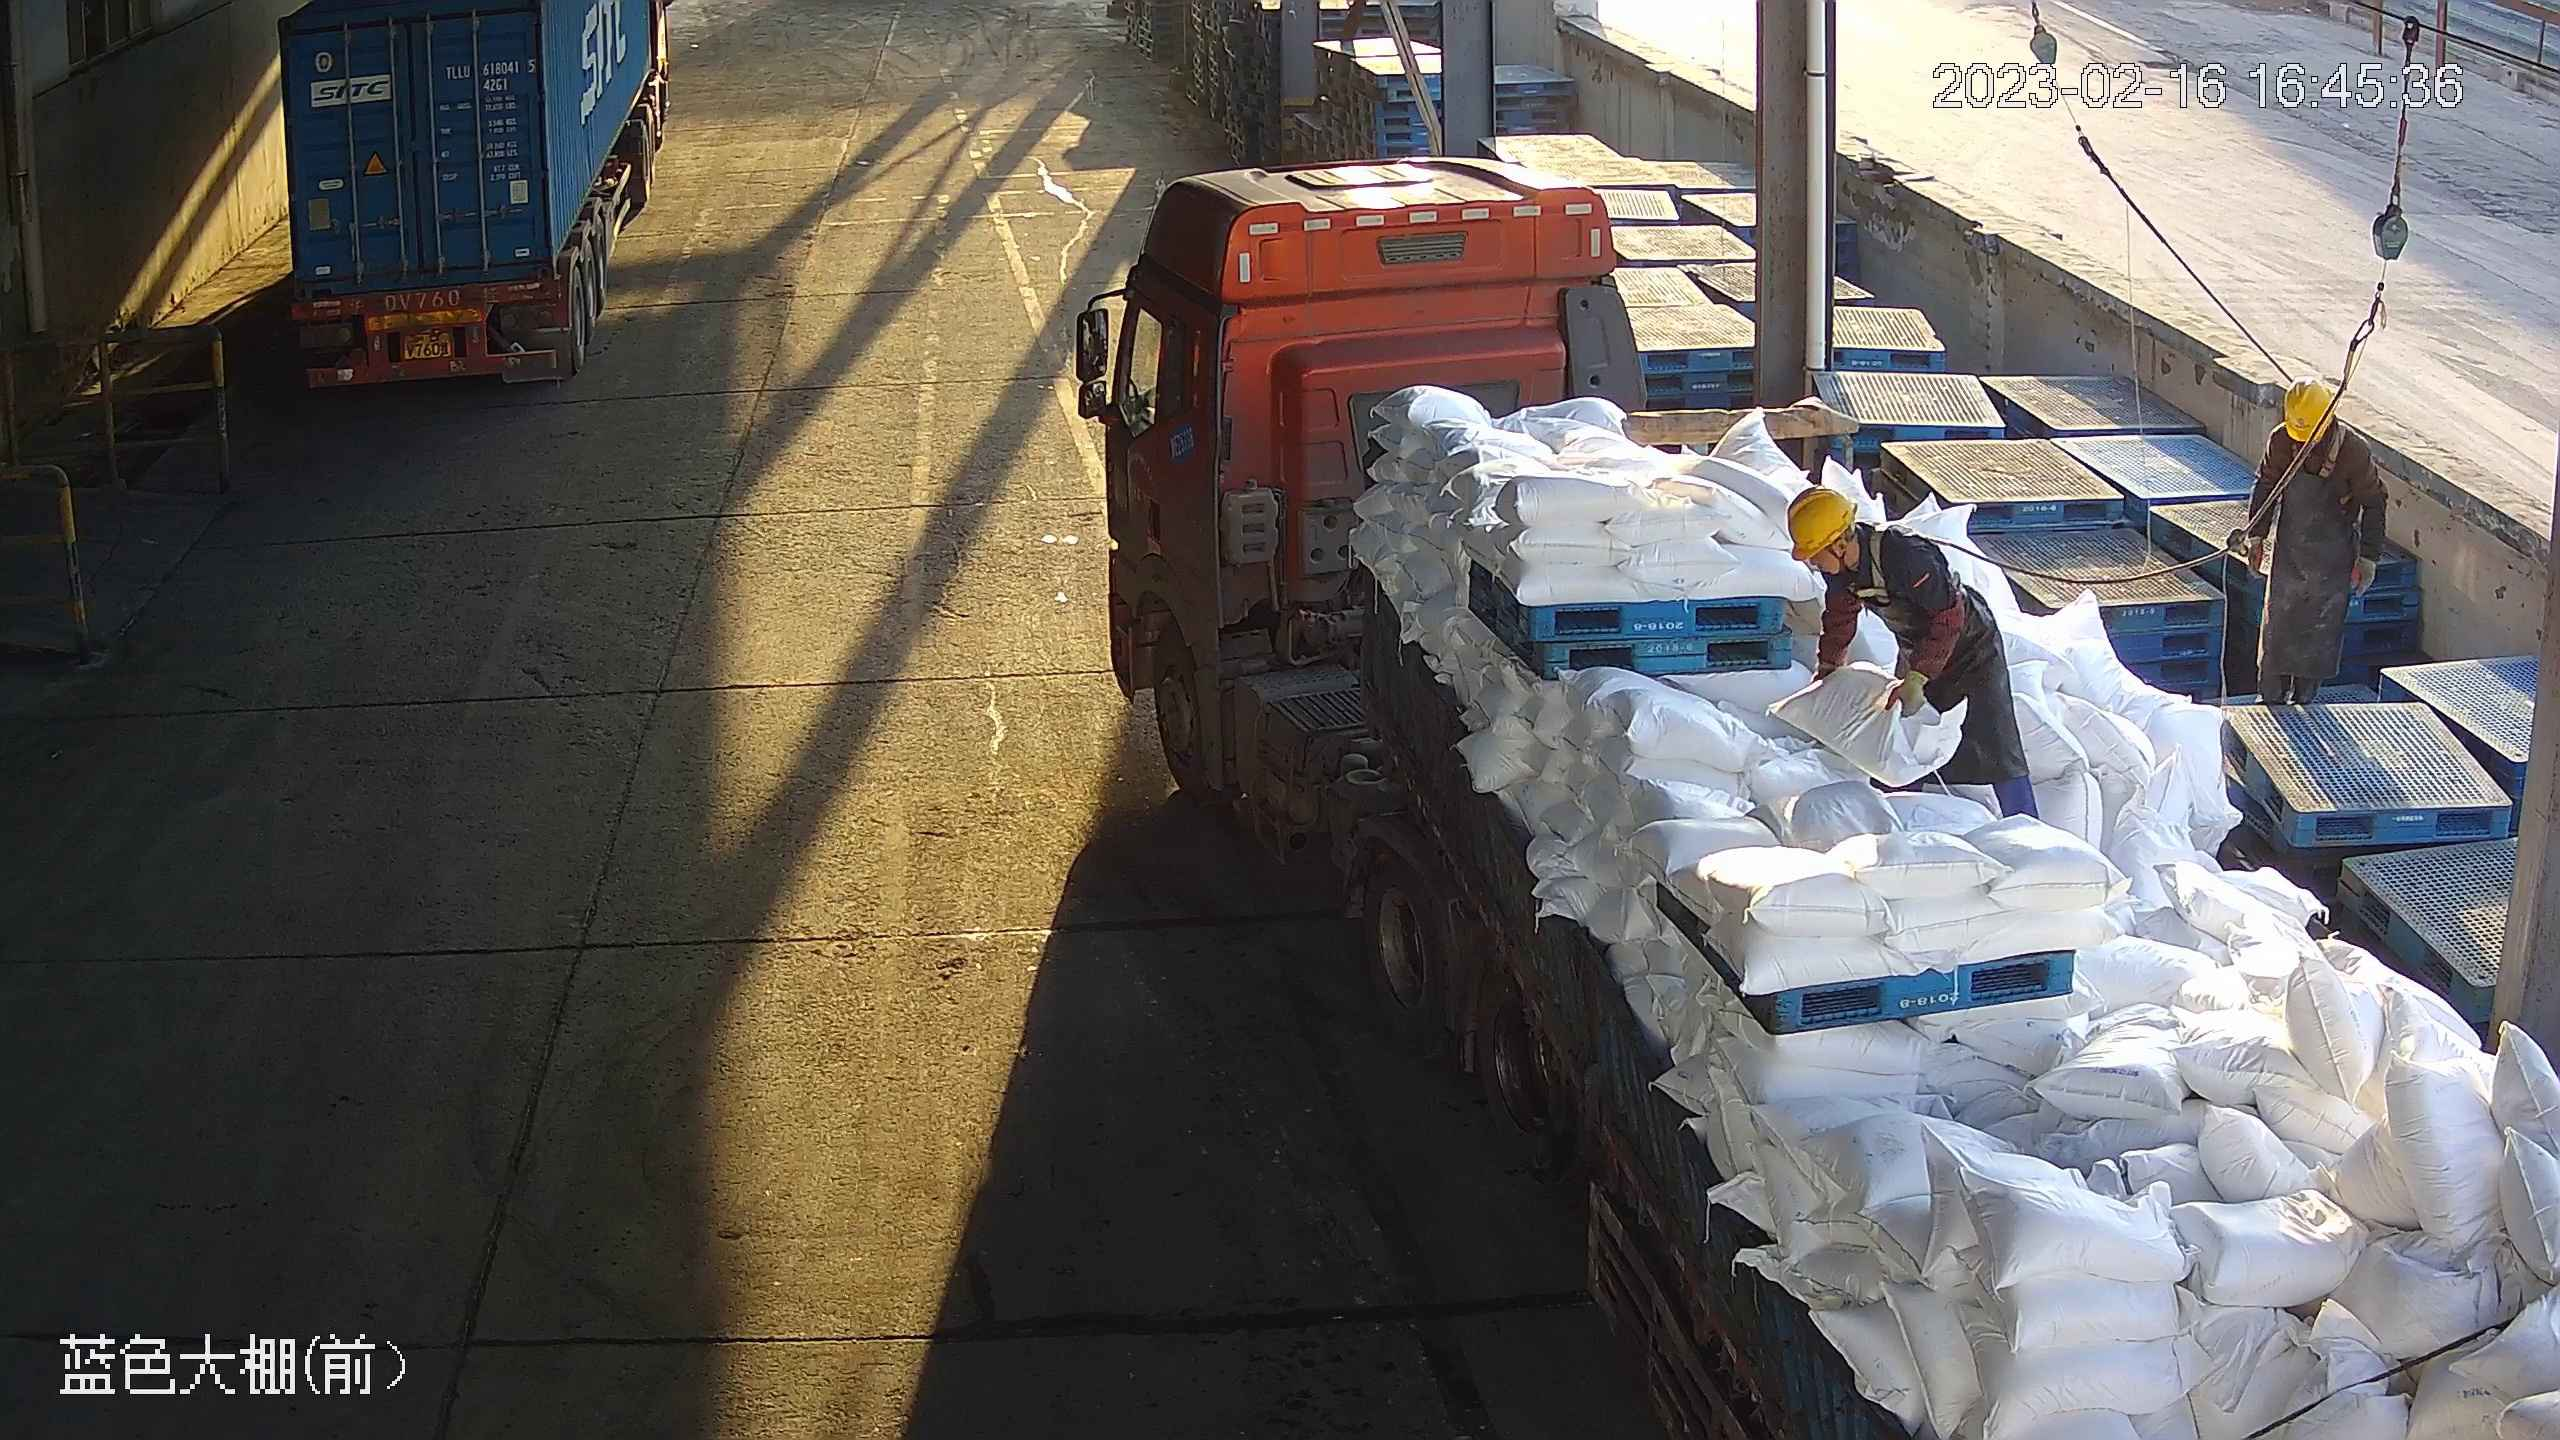belt: (1834, 524, 1935, 602), (2274, 382, 2354, 479)
head: (1788, 484, 1955, 593), (2259, 376, 2373, 468)
helmet: (1787, 486, 1859, 561), (2283, 376, 2336, 443)
people: (1786, 481, 2045, 825), (2236, 374, 2392, 710)
truck: (1103, 155, 2560, 1440), (280, 1, 669, 398)
